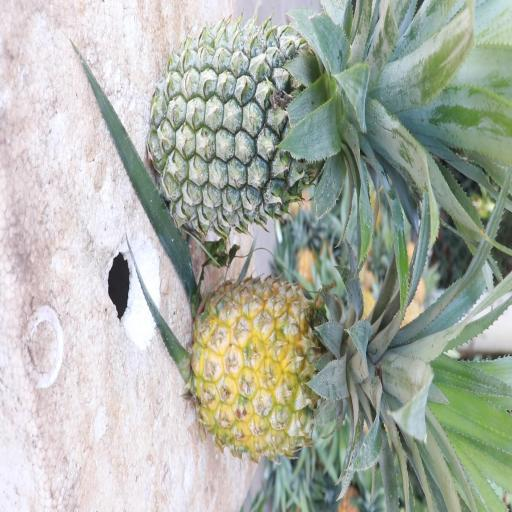Pineapple - v8 v1: (198, 248, 482, 503)
